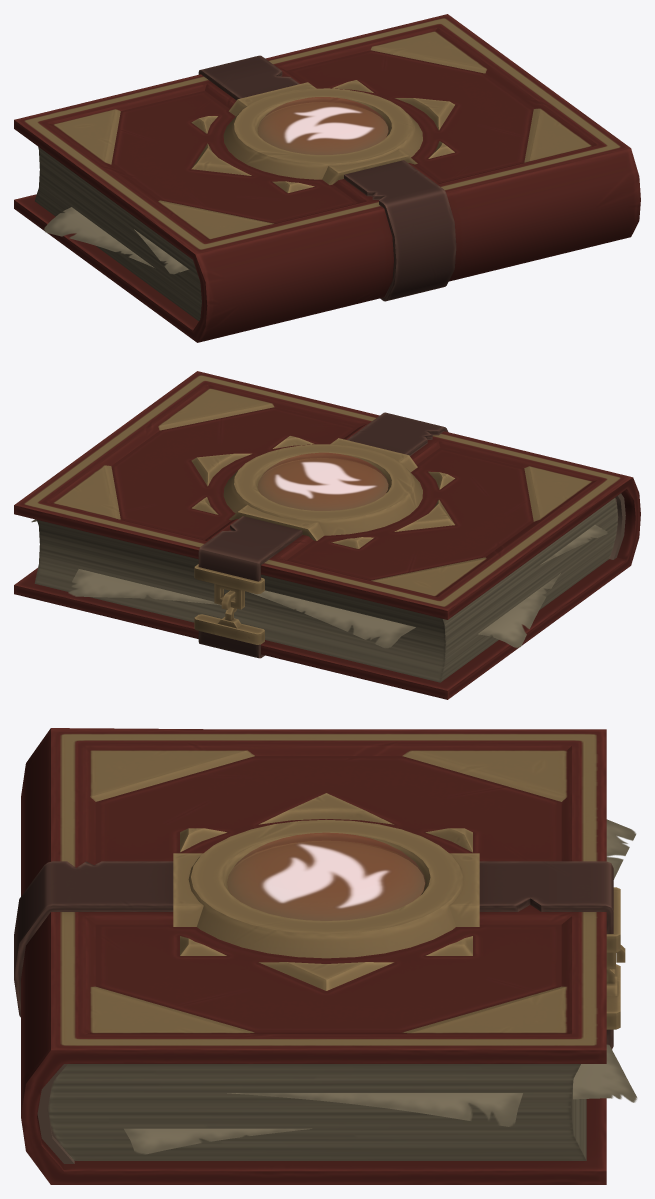
File: book.glb
3 views of the same model, one above another, from view 1: azimuth 30°, elevation 25°; view 2: azimuth 150°, elevation 25°; view 3: azimuth 270°, elevation 25° (orthographic). The views are drawn at different scales.
Visible parts, largest first — view 1: SBook, Emblem; view 2: SBook, Emblem; view 3: SBook, Emblem.
Boxes of the visible parts, x1,y1,x2,y2 form: SBook: (14,14,640,342); Emblem: (283,106,374,143); SBook: (14,371,640,699); Emblem: (274,461,376,498); SBook: (14,728,637,1184); Emblem: (261,843,390,908).
Size of the model in its own units: 791 by 194 by 602.
Materials: 2 (2 with a texture image).
